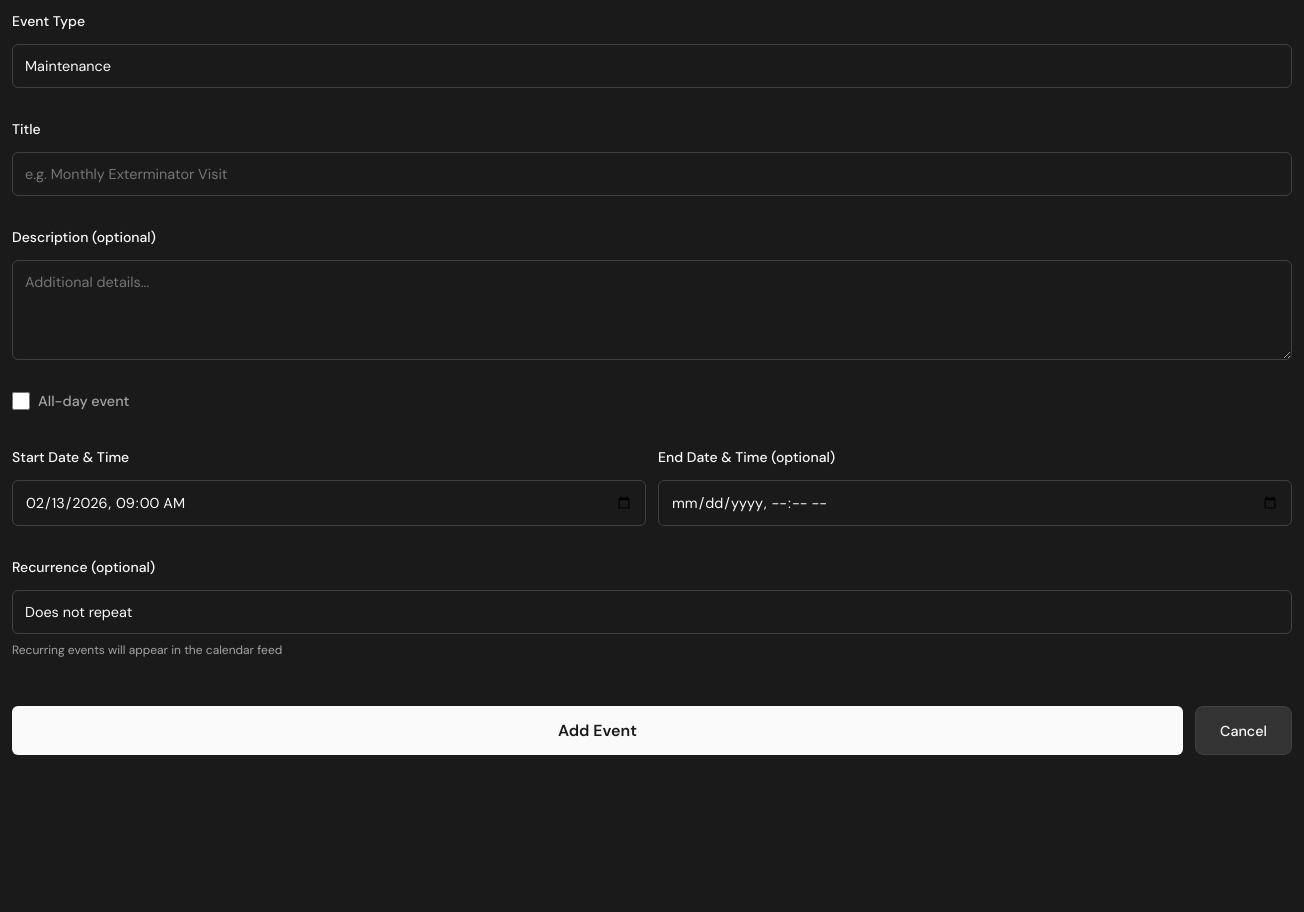
Scenario: EventForm › Creating new events › should handle network error
This screenshot has width=1304, height=912.
Type "Test Event" into the field labelled "Title". click: x=652, y=174
box: [12,152,1292,196]
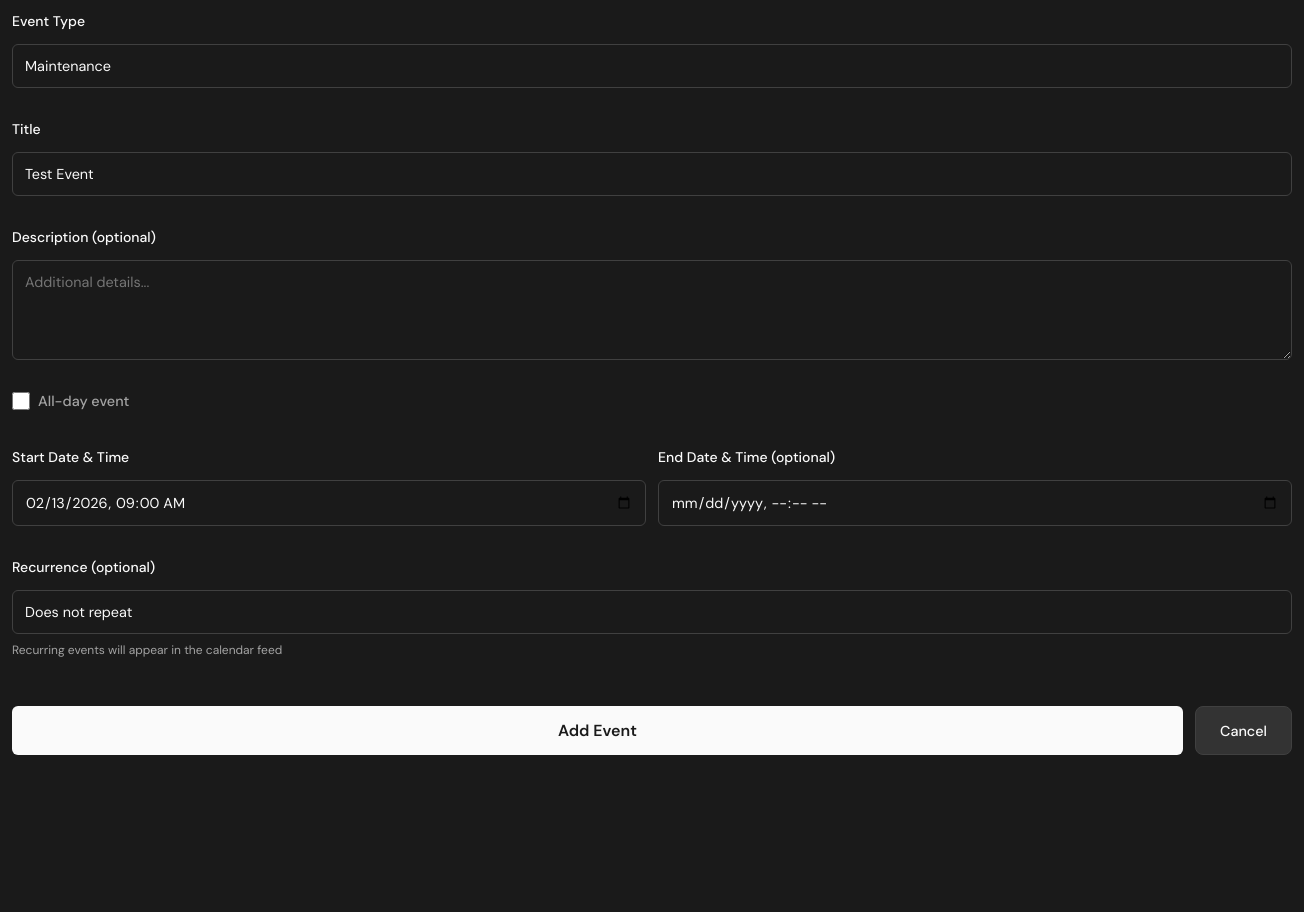
Click the button "Add Event". click: x=598, y=730
box: [12,706,1183,755]
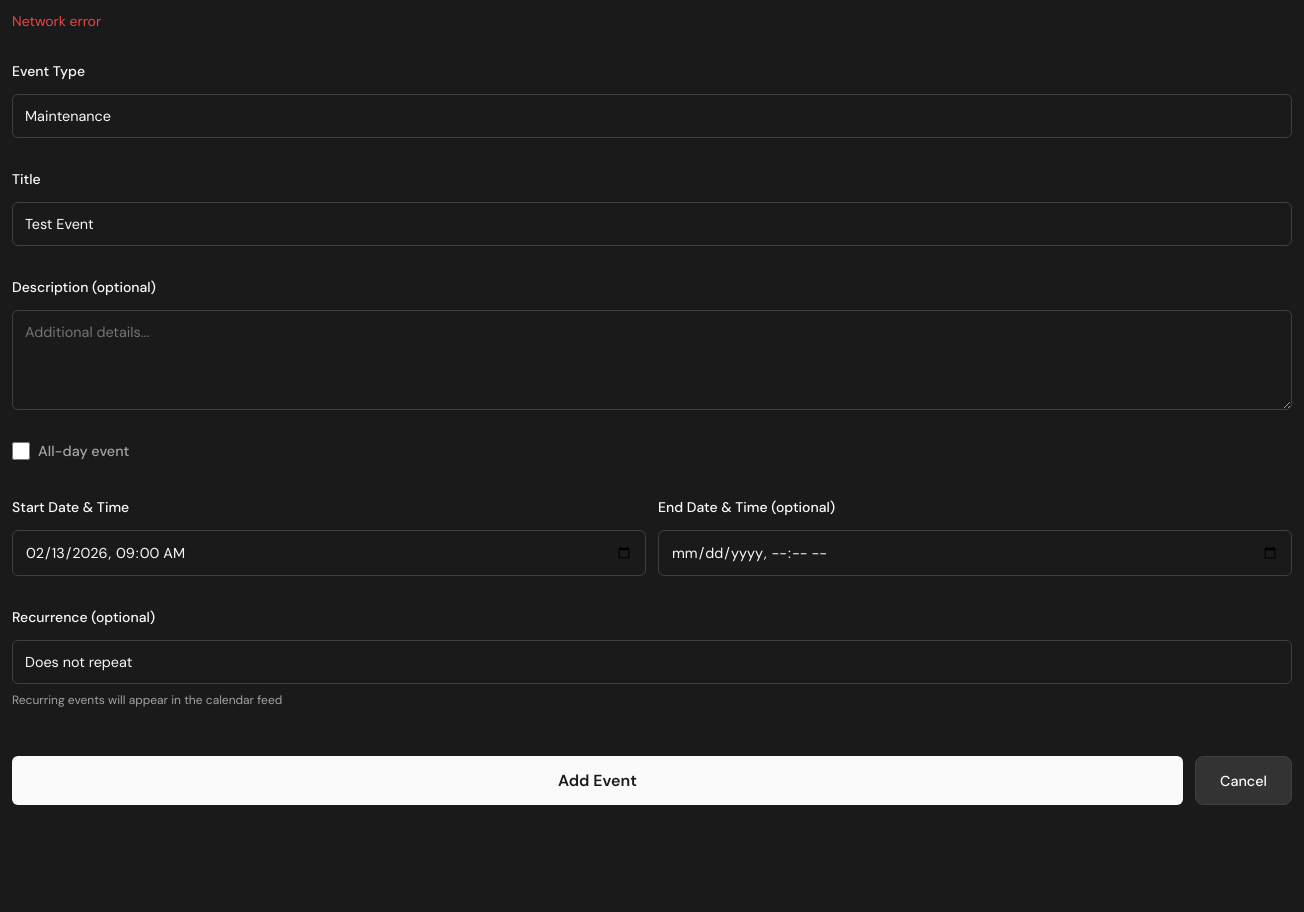
Result: the text "Network error" is shown at [12,12,101,30]
